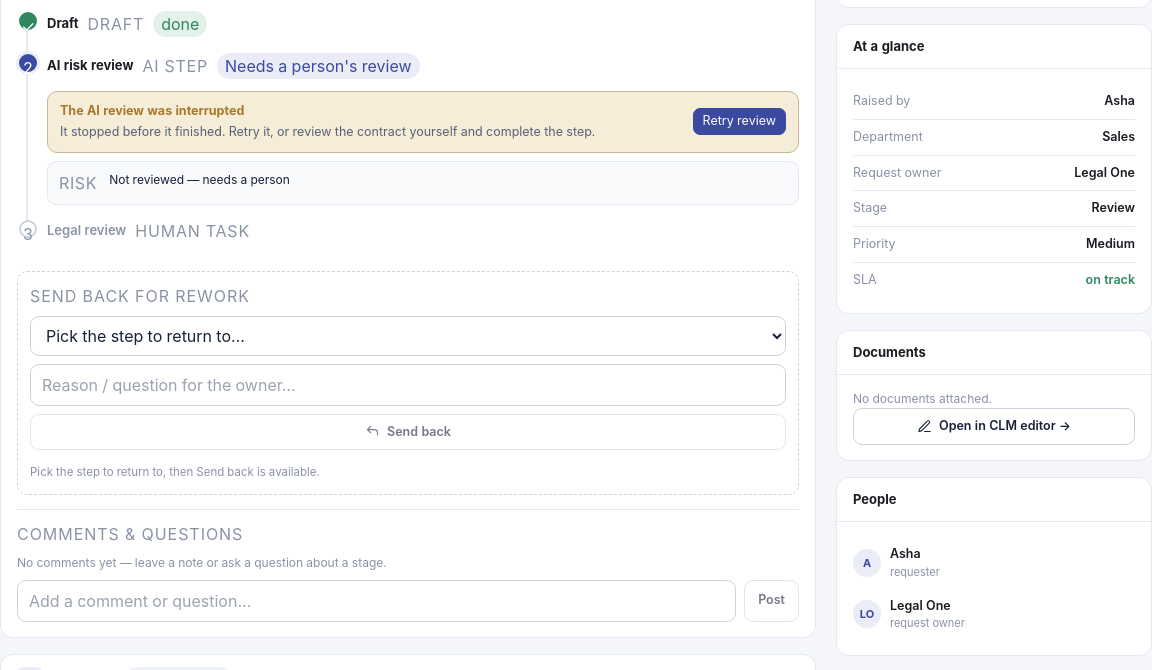
Test: sending a step back (round 2, bugs 43 and 44) › says why Send back is off until a step is picked, and turns it on when one is
The width and height of the screenshot is (1152, 670).
(page scrolled)
Expected: the button "Send back" is disabled, [30, 414, 786, 450]
Expected: the text "Pick the step to return to, then Send back is available." is shown, [30, 465, 320, 479]
Select "1. Draft" in the dropdown at coordinates (408, 336), box [30, 316, 786, 356]
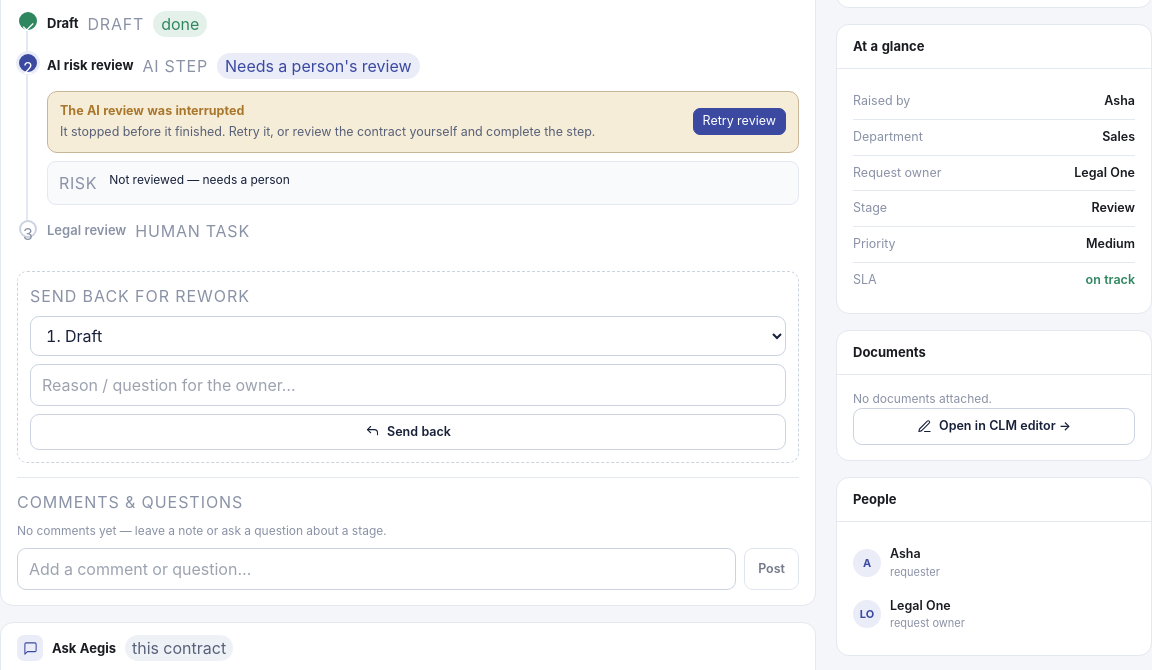
Expected: the button "Send back" is enabled, [30, 414, 786, 450]
Expected: the text "Pick the step to return to, then" is gone
